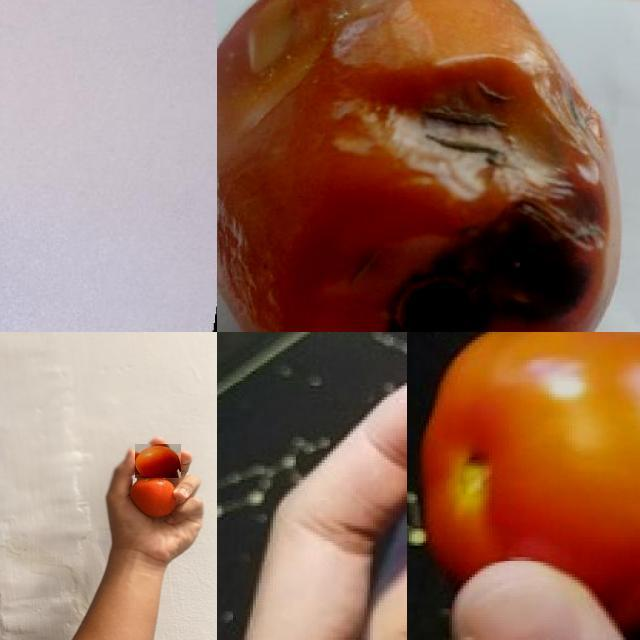Fresh Tomato: (407, 332, 640, 640), (129, 478, 179, 520), (136, 444, 182, 478)
Rotten Tomato: (217, 0, 640, 332)
